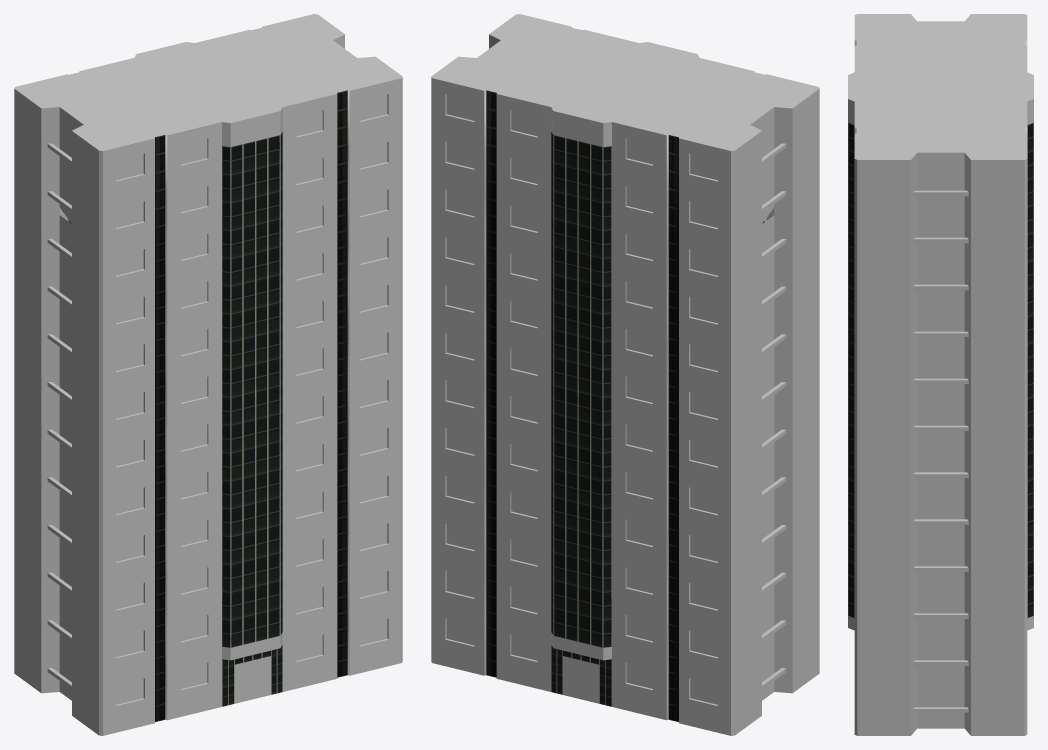
3 views of the same model, side by side, from view 1: azimuth 30°, elevation 25°; view 2: azimuth 150°, elevation 25°; view 3: azimuth 270°, elevation 25° (orthographic).
Visible parts, largest first — view 1: BR-028; view 2: BR-028; view 3: BR-028.
Part boxes in pixels (bbox=[...]): BR-028: bbox=[14, 14, 402, 735]; BR-028: bbox=[431, 14, 819, 735]; BR-028: bbox=[848, 14, 1033, 735].
Size of what is drawn, in the model's own units: 20 by 36.8 by 10.76.
